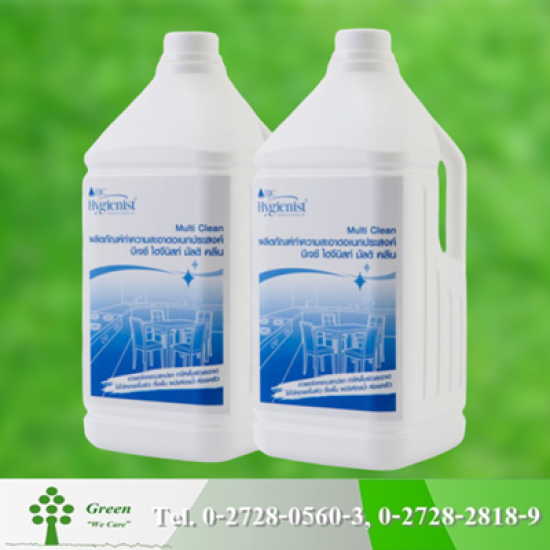Cleaning_solution: (244, 22, 474, 476), (71, 24, 275, 467)
